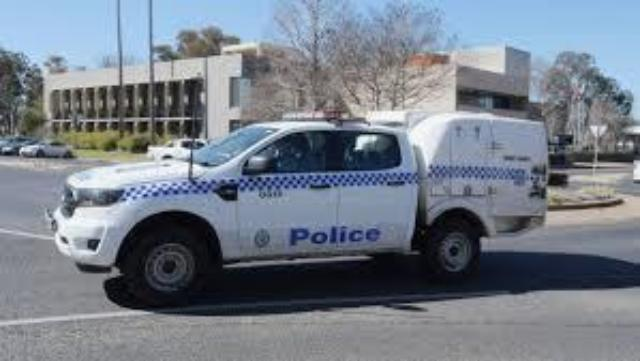police_car: (43, 105, 552, 308)
